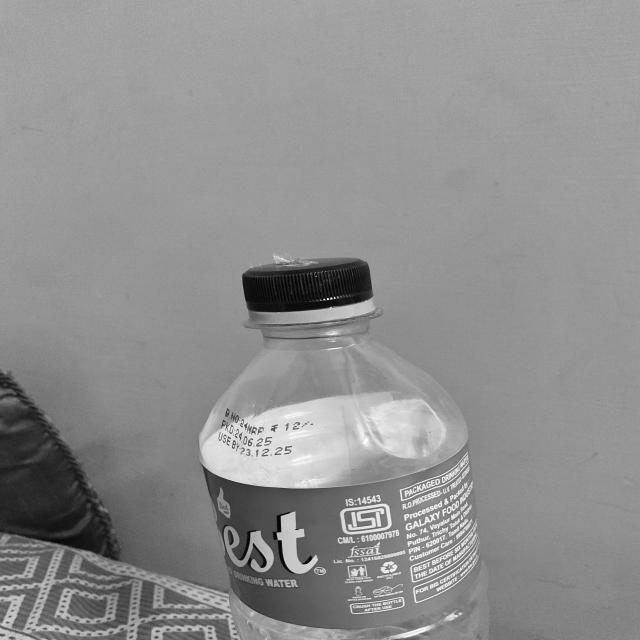Good-cap-Df0S: (237, 256, 382, 322)
